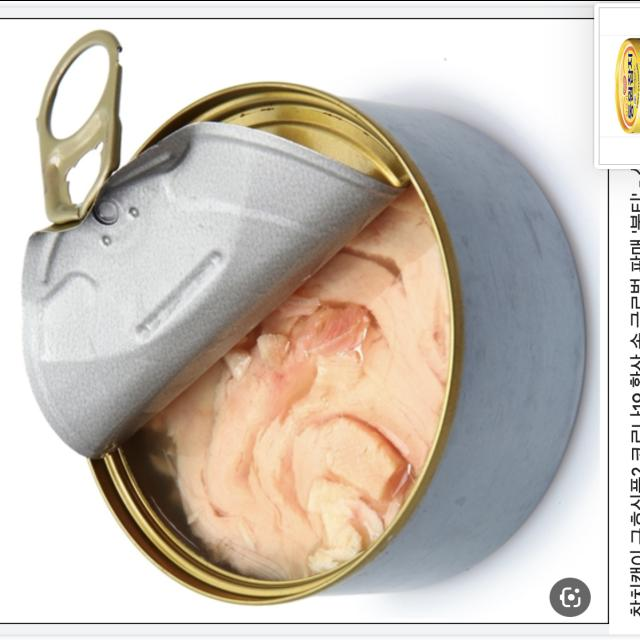can: (17, 56, 546, 600)
